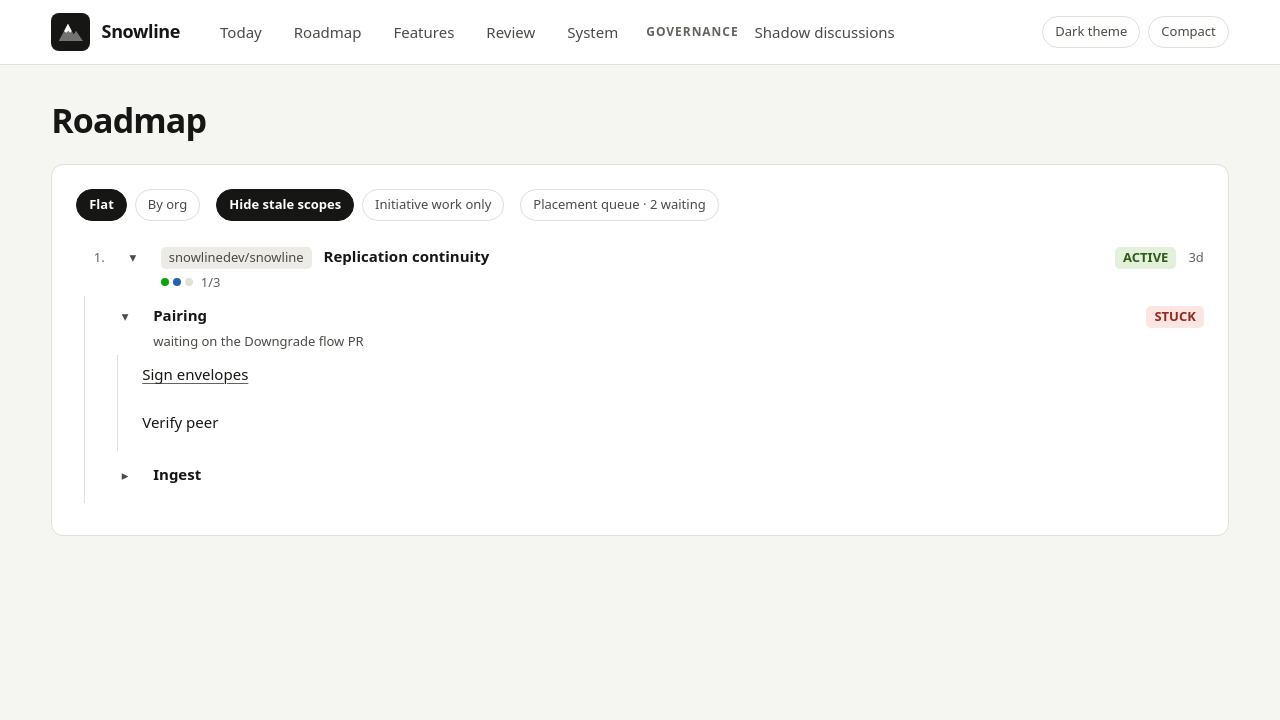
Test: board kind: collapse control › a collapsed-by-default node hides its subtree until expanded
Expected: the text "Replication continuity" is shown, [324, 246, 489, 266]
Click the button "▸": [125, 476] box [109, 460, 141, 492]
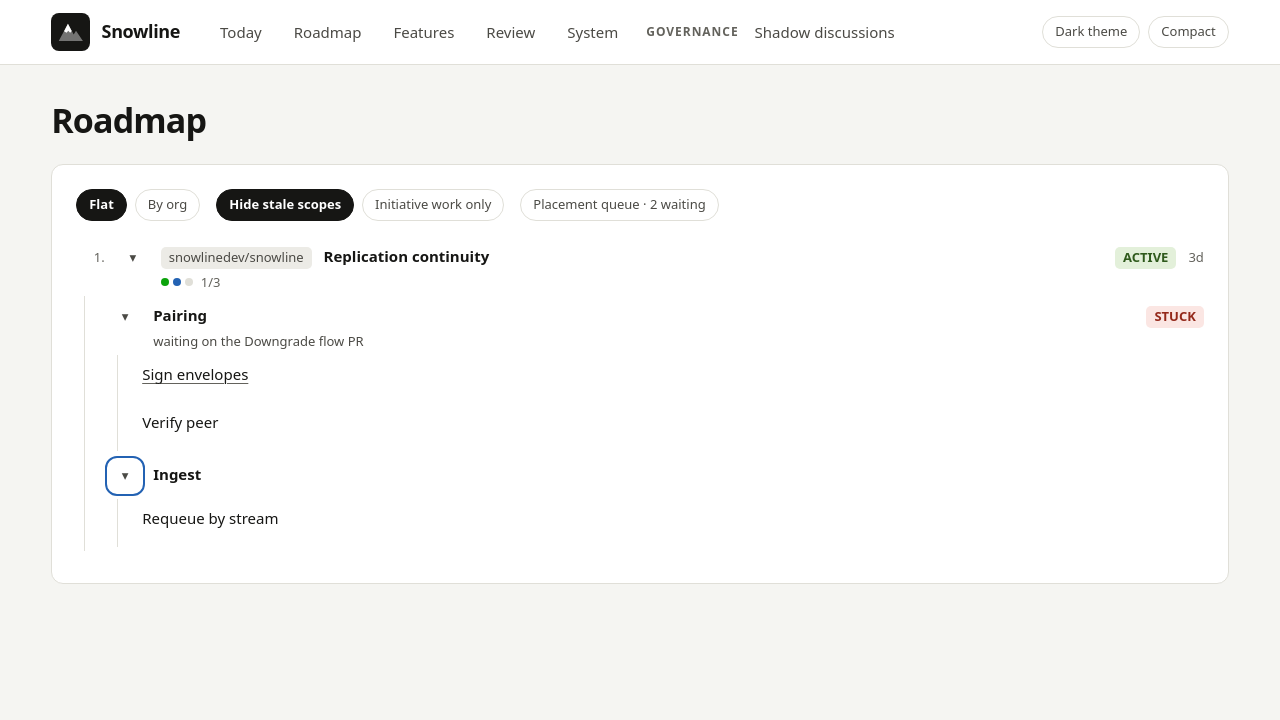
Now the button named "Collapse Ingest" is expanded, box [109, 460, 141, 492]
